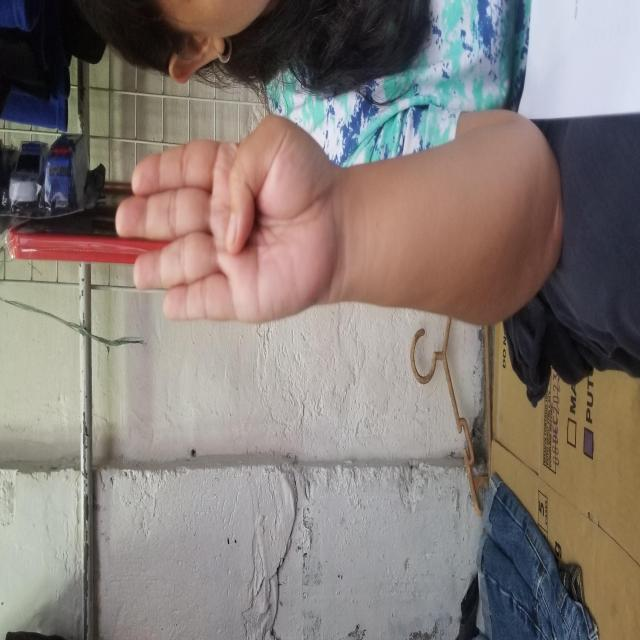B: (315, 115, 529, 337)
